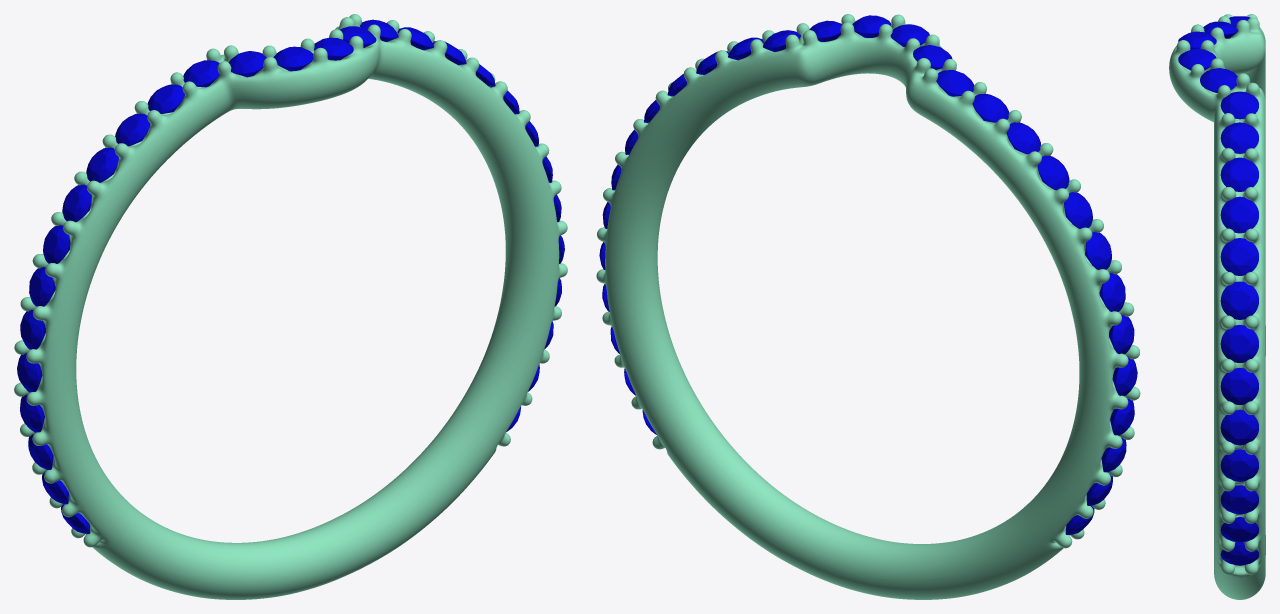
The picture shows the model from 3 angles, left to right: view 1: azimuth 30°, elevation 25°; view 2: azimuth 150°, elevation 25°; view 3: azimuth 270°, elevation 25°; orthographic projection. The views are drawn at different scales.
Parts seen in each view (by area): view 1: Metal03, Diamond_Band.024, Diamond_Band.025, Diamond_Band.023, Diamond_Band.026, Diamond_Band.022, Diamond_Band.021, Diamond_Band.027, Diamond_Band.020, Diamond_Band.029, Diamond_Band.028; view 2: Metal03, Diamond_Band.024, Diamond_Band.025, Diamond_Band.023, Diamond_Band.022, Diamond_Band.026, Diamond_Band.021, Diamond_Band.027, Diamond_Band.020; view 3: Metal03, Diamond_Band.007, Diamond_Band.008, Diamond_Band.006, Diamond_Band.009, Diamond_Band.005, Diamond_Band.010, Diamond_Band.004, Diamond_Band.011, Diamond_Band.003, Diamond_Band.012, Diamond_Band.002 (+6 smaller).
Boxes of the visible parts, x1=… form: Metal03: x1=14, y1=14, x2=567, y2=599; Diamond_Band.024: x1=86, y1=147, x2=118, y2=182; Diamond_Band.025: x1=115, y1=113, x2=150, y2=146; Diamond_Band.023: x1=62, y1=184, x2=91, y2=222; Diamond_Band.026: x1=147, y1=84, x2=184, y2=113; Diamond_Band.022: x1=43, y1=225, x2=70, y2=263; Diamond_Band.021: x1=29, y1=267, x2=55, y2=306; Diamond_Band.027: x1=183, y1=60, x2=219, y2=87; Diamond_Band.020: x1=20, y1=310, x2=45, y2=349; Diamond_Band.029: x1=273, y1=46, x2=313, y2=71; Diamond_Band.028: x1=228, y1=51, x2=266, y2=77; Metal03: x1=596, y1=14, x2=1140, y2=599; Diamond_Band.024: x1=1037, y1=155, x2=1069, y2=190; Diamond_Band.025: x1=1006, y1=122, x2=1040, y2=154; Diamond_Band.023: x1=1064, y1=192, x2=1092, y2=228; Diamond_Band.022: x1=1085, y1=232, x2=1111, y2=269; Diamond_Band.026: x1=972, y1=94, x2=1009, y2=122; Diamond_Band.021: x1=1099, y1=273, x2=1125, y2=311; Diamond_Band.027: x1=936, y1=70, x2=974, y2=96; Diamond_Band.020: x1=1109, y1=315, x2=1134, y2=354; Metal03: x1=1169, y1=14, x2=1265, y2=599; Diamond_Band.007: x1=1220, y1=281, x2=1258, y2=319; Diamond_Band.008: x1=1220, y1=325, x2=1258, y2=362; Diamond_Band.006: x1=1220, y1=238, x2=1258, y2=275; Diamond_Band.009: x1=1220, y1=368, x2=1258, y2=404; Diamond_Band.005: x1=1220, y1=196, x2=1258, y2=233; Diamond_Band.010: x1=1220, y1=410, x2=1258, y2=445; Diamond_Band.004: x1=1220, y1=157, x2=1258, y2=191; Diamond_Band.011: x1=1220, y1=449, x2=1258, y2=481; Diamond_Band.003: x1=1220, y1=122, x2=1258, y2=153; Diamond_Band.012: x1=1220, y1=485, x2=1258, y2=514; Diamond_Band.002: x1=1220, y1=91, x2=1258, y2=119.
Bounding box in the file's own units: 21.42 × 21.41 × 3.53.
